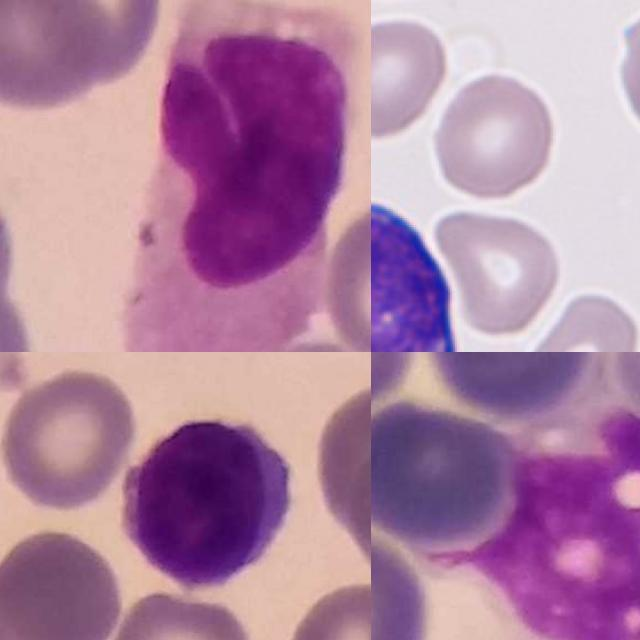Lymphocyte: (122, 417, 294, 591), (371, 180, 467, 352)
Monocyte: (129, 0, 356, 352), (492, 352, 640, 640)
RBC: (431, 204, 566, 339), (427, 67, 560, 202), (371, 11, 451, 143), (514, 285, 640, 352), (613, 0, 640, 155)
